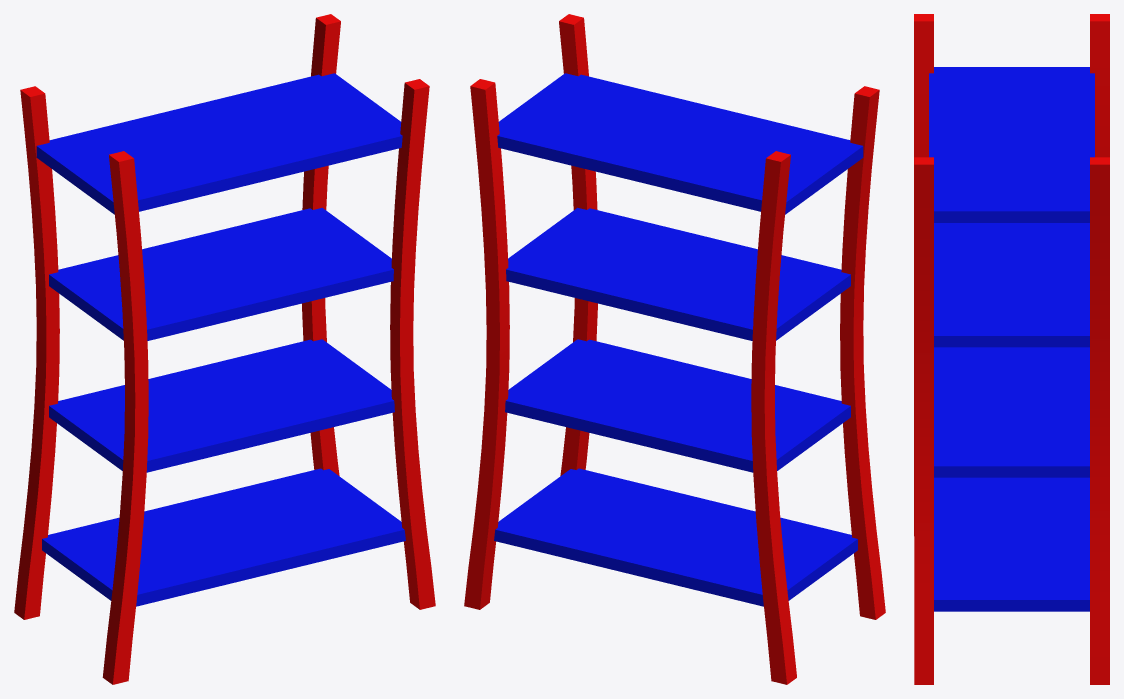
Rendered from shelf.FBX.
3 views of the same model, side by side, from view 1: azimuth 30°, elevation 25°; view 2: azimuth 150°, elevation 25°; view 3: azimuth 270°, elevation 25° (orthographic).
Parts seen in each view (by area): view 1: etageres_01, poteaux; view 2: etageres_01, poteaux; view 3: etageres_01, poteaux.
Boxes of the visible parts, x1,y1,x2,y2 form: etageres_01: [36, 73, 405, 606]; poteaux: [14, 14, 435, 684]; etageres_01: [494, 73, 863, 606]; poteaux: [464, 14, 885, 684]; etageres_01: [929, 67, 1094, 611]; poteaux: [914, 14, 1109, 684].
Size of the model in its own units: 117 by 181 by 62.08.
